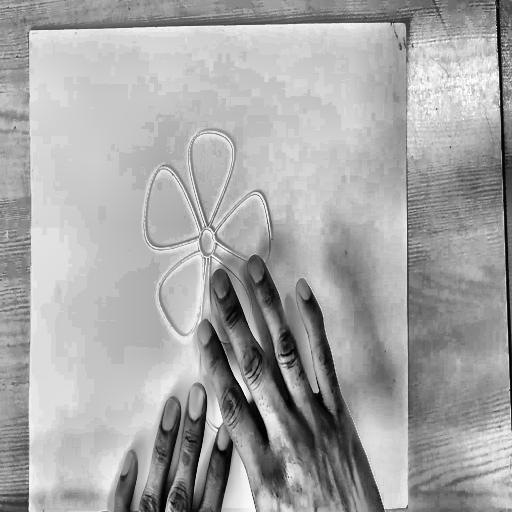bottom_right: (403, 497, 412, 512)
flower: (138, 122, 279, 446)
top_left: (25, 22, 35, 40)
top_right: (402, 17, 409, 30)
